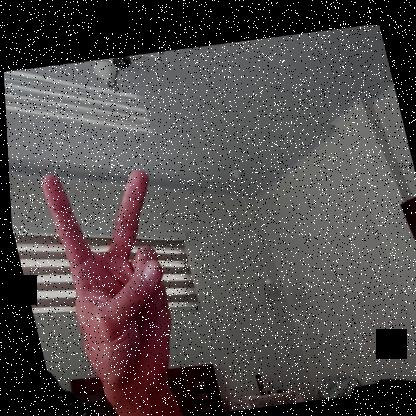V: (35, 147, 196, 401)
